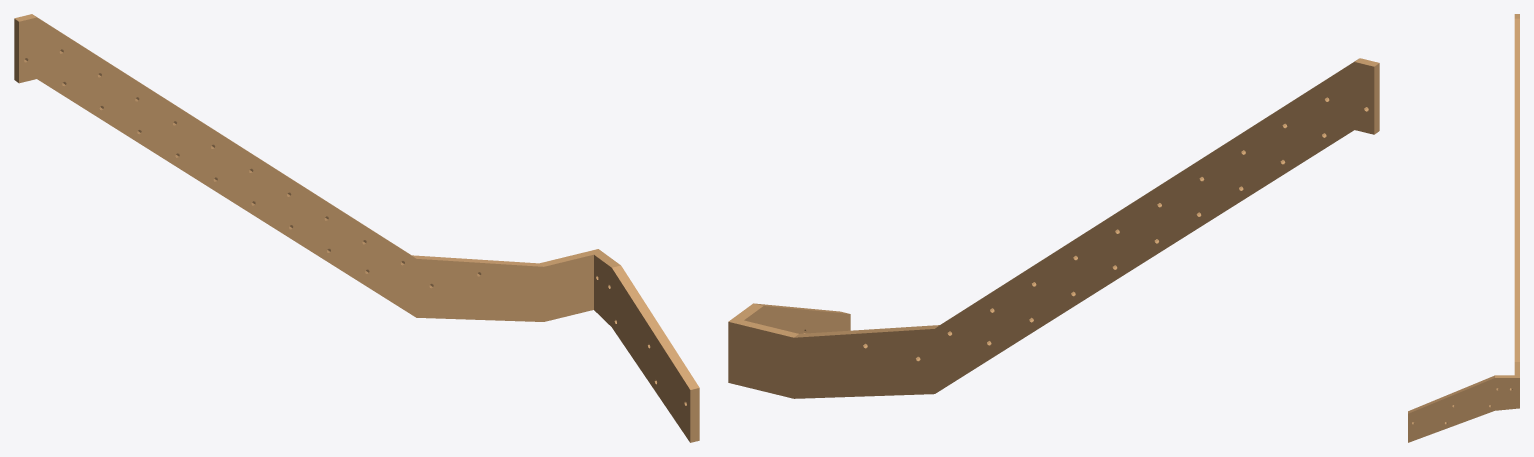
3 views of the same model, side by side, from view 1: azimuth 30°, elevation 25°; view 2: azimuth 150°, elevation 25°; view 3: azimuth 270°, elevation 25° (orthographic). The views are drawn at different scales.
Parts seen in each view (by area): view 1: wand teil; view 2: wand teil; view 3: wand teil.
Boxes of the visible parts, bbox=[...] form: wand teil: bbox=[14, 14, 699, 442]; wand teil: bbox=[728, 58, 1379, 398]; wand teil: bbox=[1408, 14, 1519, 442].
Bounding box in the file's own units: 8.91 × 7.15 × 2.67.
